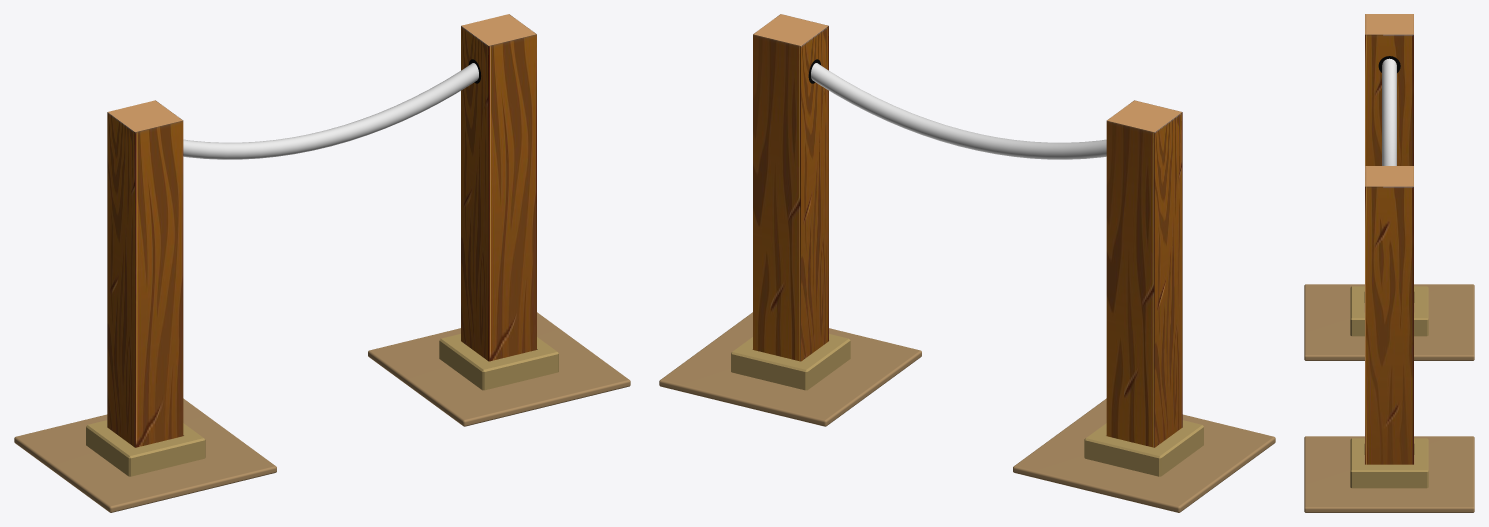
Rendered from vip_pole_close.fbx.
3 renders of one model, left to right at view 1: azimuth 30°, elevation 25°; view 2: azimuth 150°, elevation 25°; view 3: azimuth 270°, elevation 25°, orthographic. The views are drawn at different scales.
Parts seen in each view (by area): view 1: pCube6, pCube3, pCube5, pCube1, pCylinder3, pCube4, pCube2; view 2: pCube6, pCube3, pCube5, pCube1, pCylinder3, pCube4, pCube2; view 3: pCube3, pCube1, pCube5, pCube6, pCube2, pCylinder3, pCube4.
Part boxes in pixels (x1,y1,x2,y2): pCube6: [107, 100, 183, 447]; pCube3: [461, 14, 536, 361]; pCube5: [14, 398, 276, 512]; pCube1: [368, 312, 630, 426]; pCylinder3: [183, 63, 478, 159]; pCube4: [86, 420, 205, 476]; pCube2: [439, 334, 558, 390]; pCube6: [1106, 100, 1182, 447]; pCube3: [753, 14, 828, 361]; pCube5: [1013, 398, 1275, 512]; pCube1: [659, 312, 921, 426]; pCylinder3: [811, 63, 1106, 159]; pCube4: [1084, 420, 1203, 476]; pCube2: [731, 334, 850, 390]; pCube3: [1365, 166, 1413, 464]; pCube1: [1304, 436, 1474, 512]; pCube5: [1304, 284, 1474, 360]; pCube6: [1365, 14, 1413, 165]; pCube2: [1350, 438, 1428, 488]; pCylinder3: [1382, 58, 1396, 165]; pCube4: [1350, 286, 1428, 336].
Bounding box in the file's own units: 6.78 × 4.25 × 2.18.
